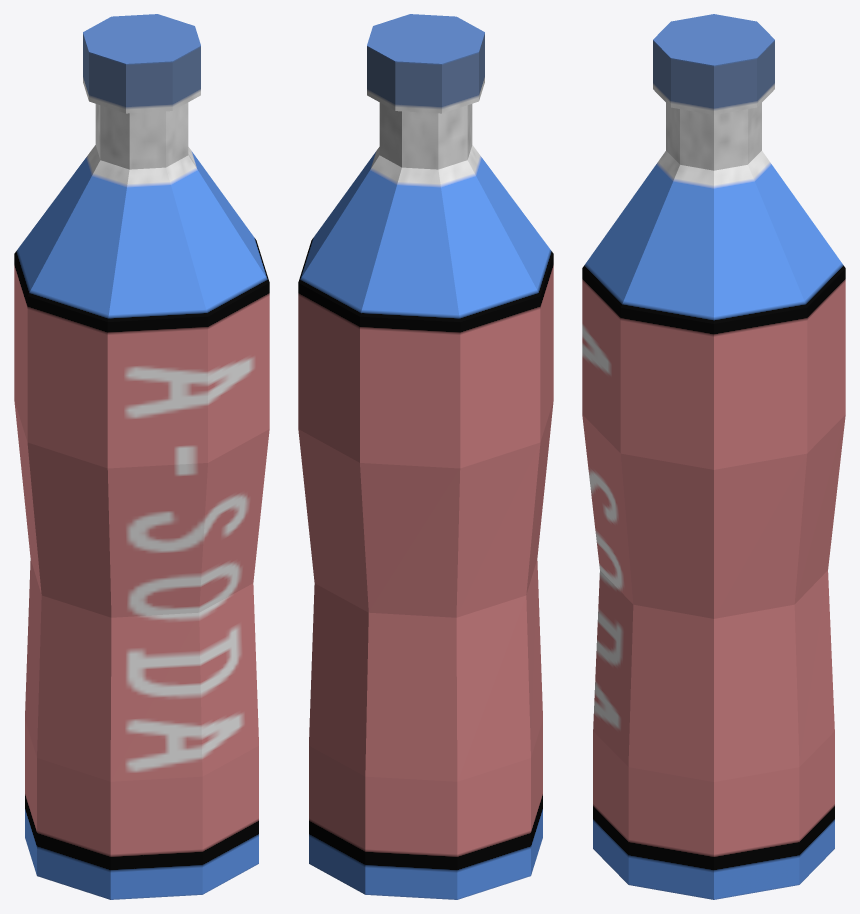
The model's file is bottle 7.FBX.
The picture shows the model from 3 angles, left to right: view 1: azimuth 30°, elevation 25°; view 2: azimuth 150°, elevation 25°; view 3: azimuth 270°, elevation 25°; orthographic projection.
Parts seen in each view (by area): view 1: 礦泉水018; view 2: 礦泉水018; view 3: 礦泉水018.
Part boxes in pixels (x1=…): 礦泉水018: x1=14, y1=14, x2=269, y2=899; 礦泉水018: x1=298, y1=14, x2=553, y2=899; 礦泉水018: x1=582, y1=14, x2=845, y2=899.
Bounding box in the file's own units: 38.33 × 130 × 38.33.
1 material, 1 textured.
